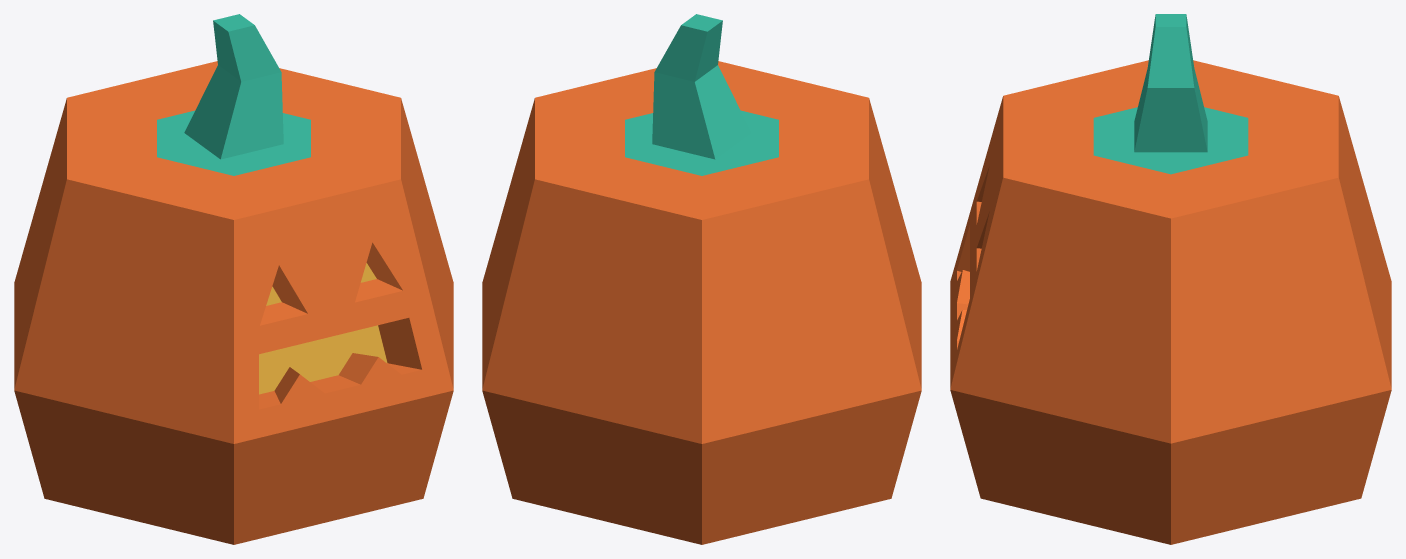
Rendered from pumpkinTallCarved.dae.
The picture shows the model from 3 angles, left to right: view 1: azimuth 30°, elevation 25°; view 2: azimuth 150°, elevation 25°; view 3: azimuth 270°, elevation 25°; orthographic projection.
Parts seen in each view (by area): view 1: pumpkinTallCarved; view 2: pumpkinTallCarved; view 3: pumpkinTallCarved.
Boxes of the visible parts, x1=… form: pumpkinTallCarved: x1=14, y1=14, x2=453, y2=544; pumpkinTallCarved: x1=482, y1=14, x2=921, y2=544; pumpkinTallCarved: x1=950, y1=14, x2=1391, y2=544.
Size of the model in its own units: 0.2784 by 0.26 by 0.2411.
